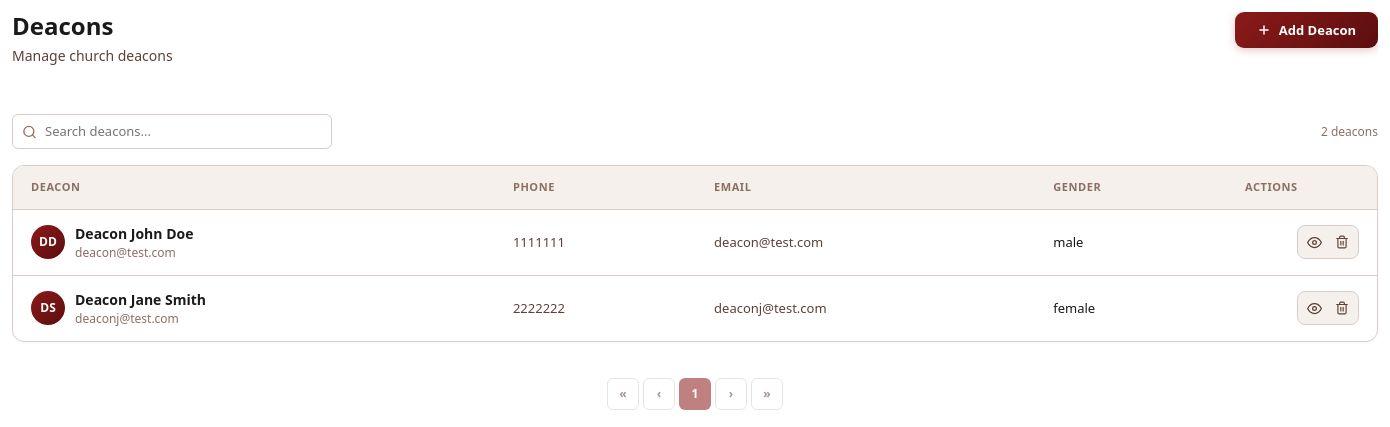
Test case: Deacons › searches deacons by name
Type "John" into the field with placeholder "Search deacons...".
click(172, 132); type("John")  # box [12,114,332,149]
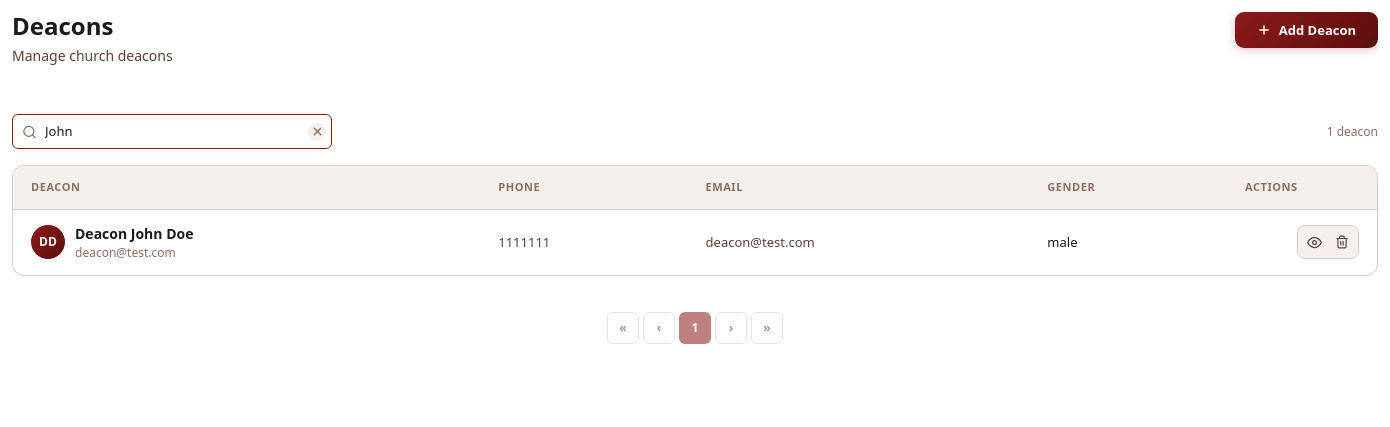
Check: the text "Deacon John Doe" is shown, box [75,223,193,244]
Check: the text "Deacon Jane Smith" is gone
